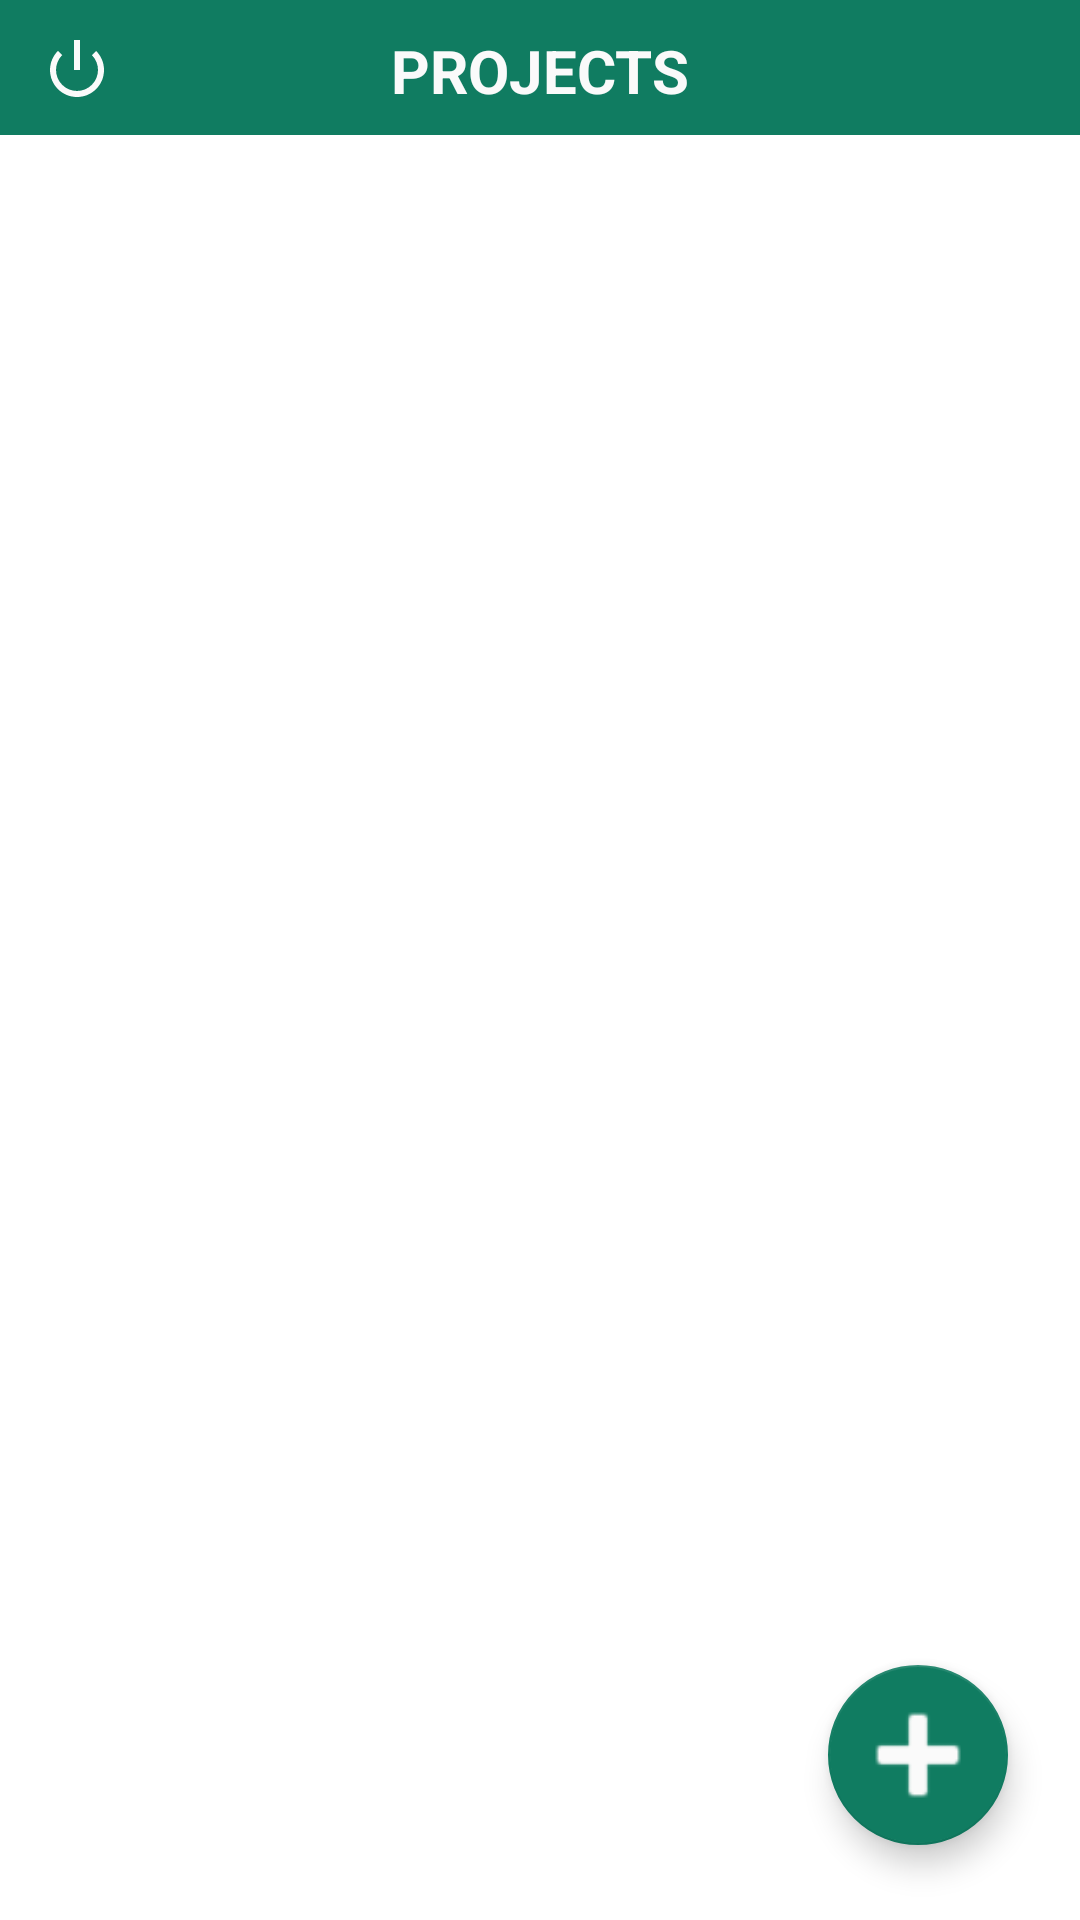

Screen size 1080*1920. Icon name, then its center in pixels as point (x, y):
add: point (918, 1755)
lock power off: point (77, 68)
